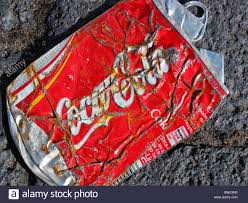Coca-Cola: (59, 14, 199, 180), (52, 32, 176, 144), (114, 33, 175, 118), (51, 71, 122, 139), (154, 94, 172, 134)
